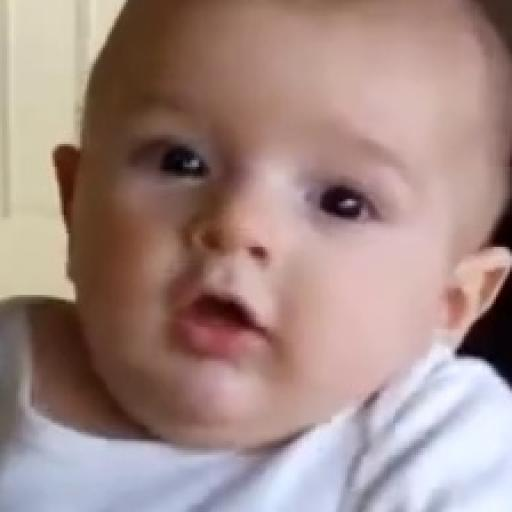Autism: (41, 16, 512, 442)
